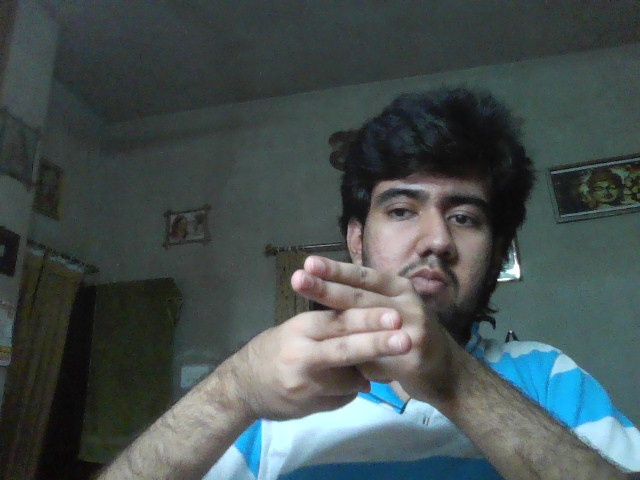Name: (249, 255, 448, 420)
